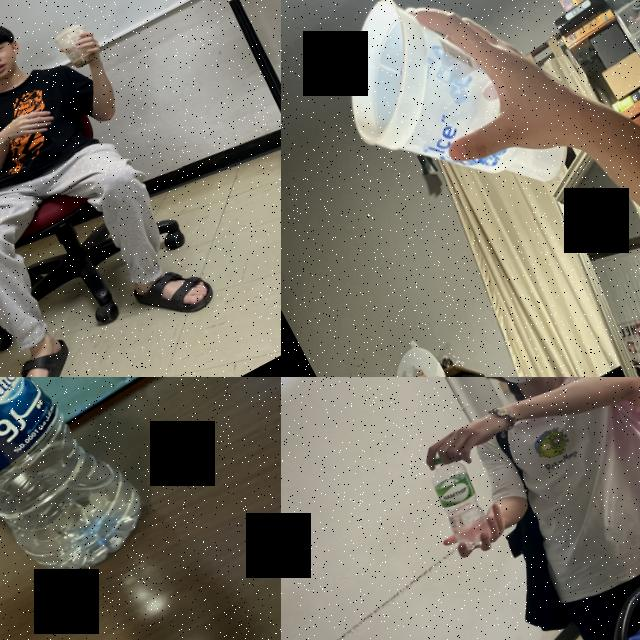bottle: (0, 377, 182, 640), (413, 444, 502, 556)
cup: (306, 0, 580, 251), (52, 17, 106, 74)
